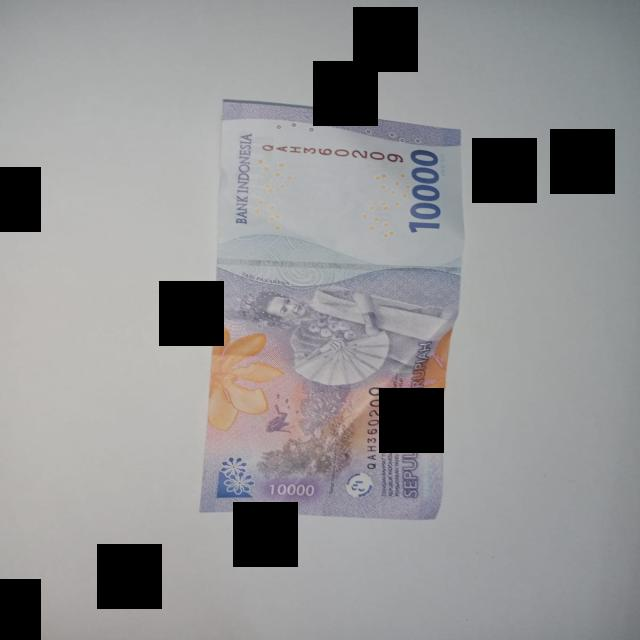sepuluhribu rupiah: (200, 100, 463, 519)
